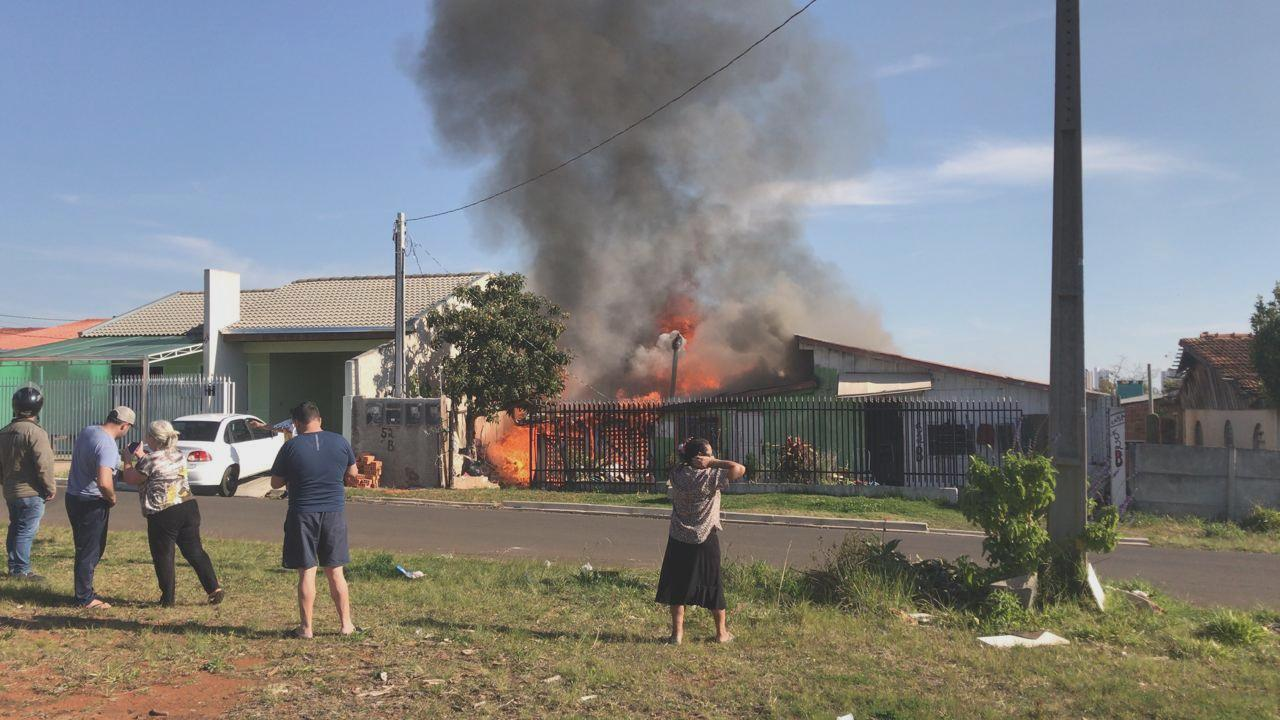Fire: (500, 425, 535, 481), (615, 388, 662, 405)
